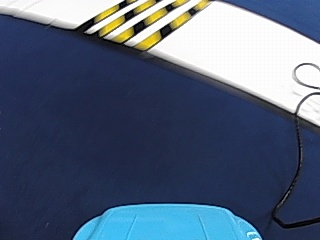bump: (80, 2, 190, 47)
